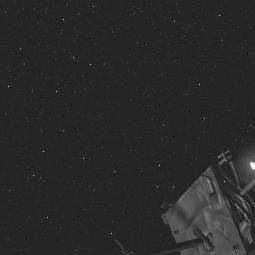smart_1: (158, 141, 255, 255)
